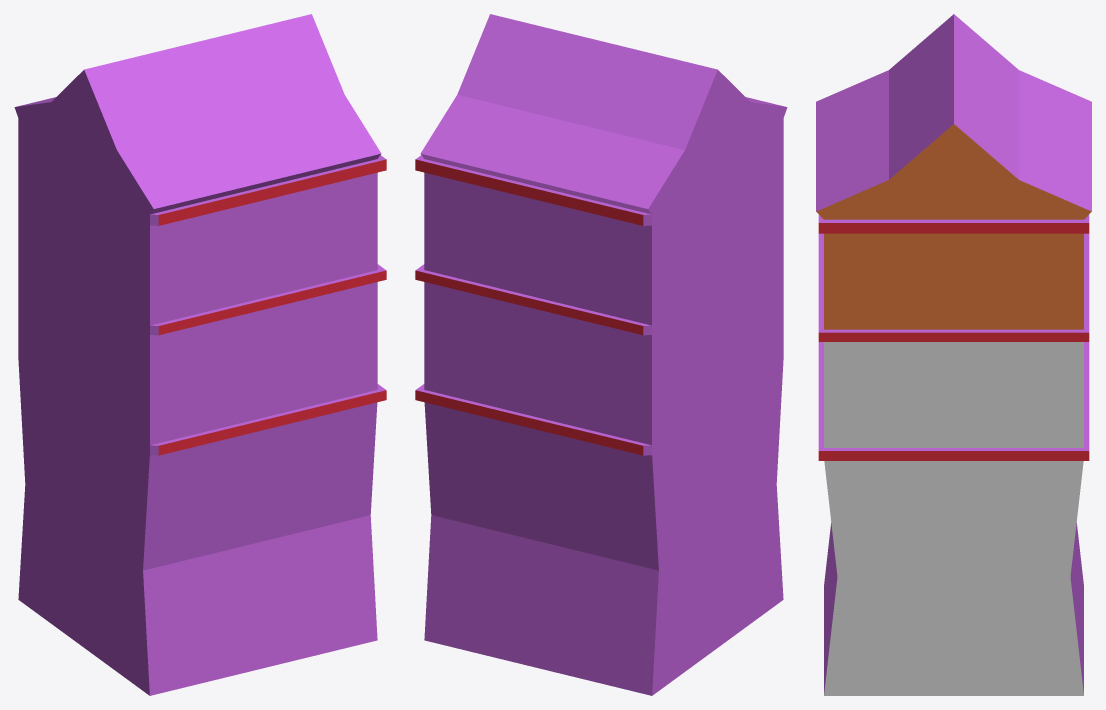
The model's file is BaphometHouse.fbx.
3 views of the same model, side by side, from view 1: azimuth 30°, elevation 25°; view 2: azimuth 150°, elevation 25°; view 3: azimuth 270°, elevation 25° (orthographic).
Visible parts, largest first — view 1: BaphometHouse; view 2: BaphometHouse; view 3: BaphometHouse.
Part boxes in pixels (x1,y1,x2,y2): BaphometHouse: [14, 14, 386, 695]; BaphometHouse: [415, 14, 787, 695]; BaphometHouse: [816, 14, 1091, 695].
Size of the model in its own units: 308 by 728 by 318.
